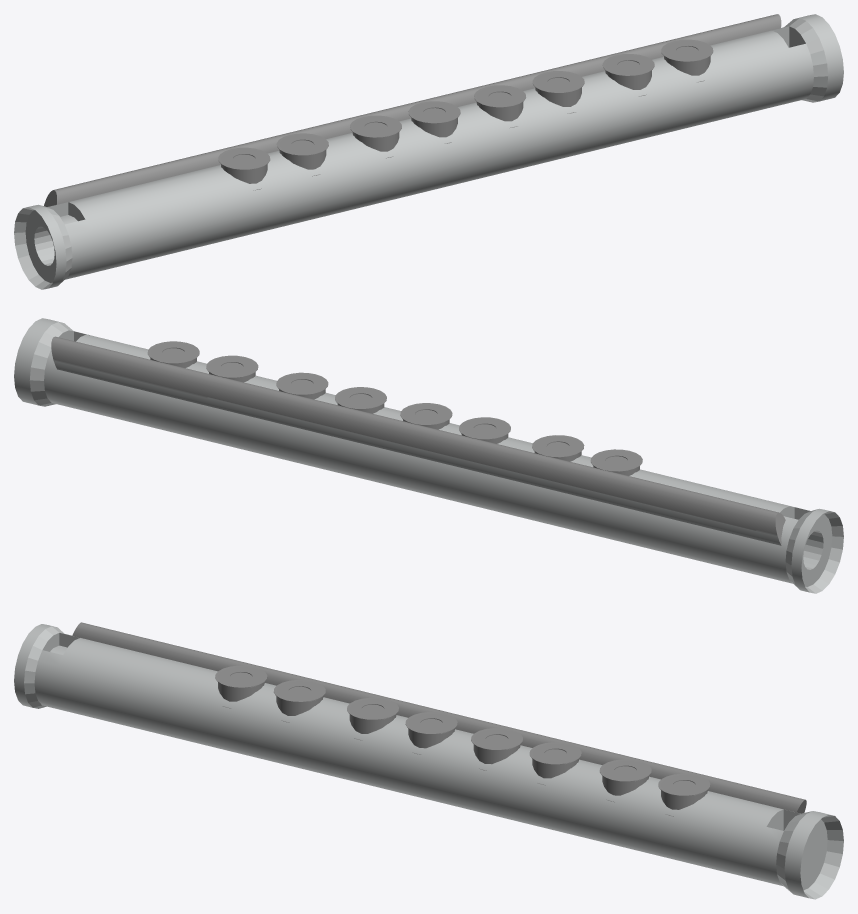
File: flute.fbx
The picture shows the model from 3 angles, top to bottom: view 1: azimuth 30°, elevation 25°; view 2: azimuth 150°, elevation 25°; view 3: azimuth 330°, elevation 25°; orthographic projection.
Parts seen in each view (by area): view 1: polySurface562; view 2: polySurface562; view 3: polySurface562.
Part boxes in pixels (left/top/right/bottom): polySurface562: left=14, top=14, right=843, bottom=289; polySurface562: left=14, top=318, right=843, bottom=593; polySurface562: left=14, top=622, right=843, bottom=899.
Bounding box in the file's own units: 0.9028 × 0.088 × 0.0867.
1 material, 1 textured.
